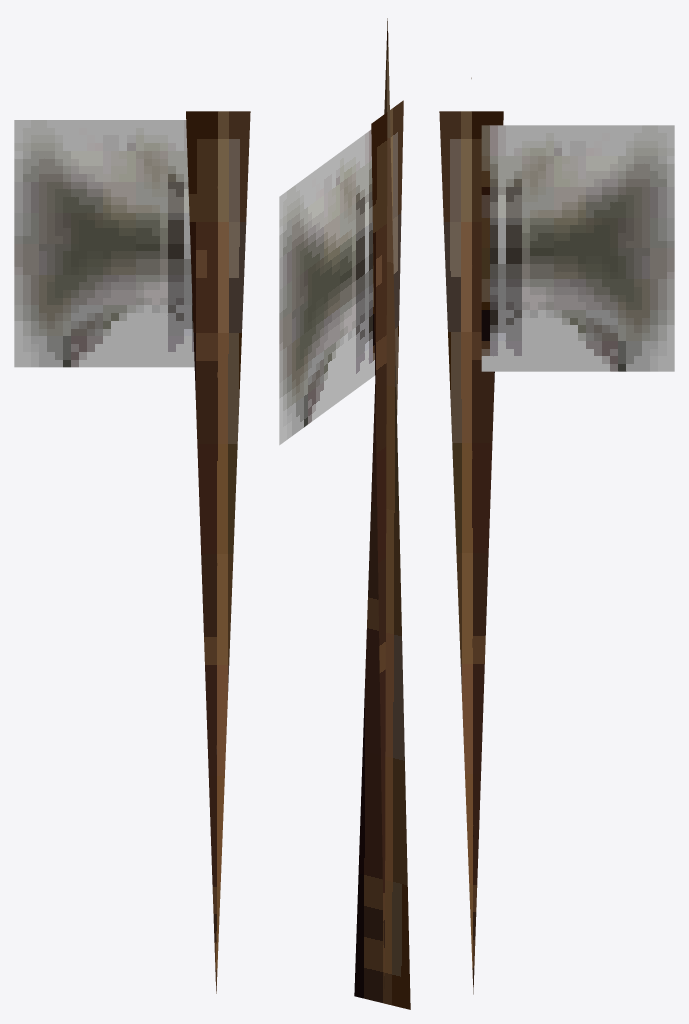
Rendered from special_n_einheriar_axe_standard.glb.
The picture shows the model from 3 angles, left to right: view 1: azimuth 90°, elevation 25°; view 2: azimuth 150°, elevation 25°; view 3: azimuth 270°, elevation 25°; orthographic projection.
Parts seen in each view (by area): view 1: MeshRoot; view 2: MeshRoot; view 3: MeshRoot.
Boxes of the visible parts, bbox=[...] form: MeshRoot: bbox=[14, 111, 250, 993]; MeshRoot: bbox=[279, 18, 410, 1009]; MeshRoot: bbox=[439, 77, 674, 994].
Size of the model in its own units: 0.1221 by 2.05 by 0.4458.
1 material, 1 textured.
